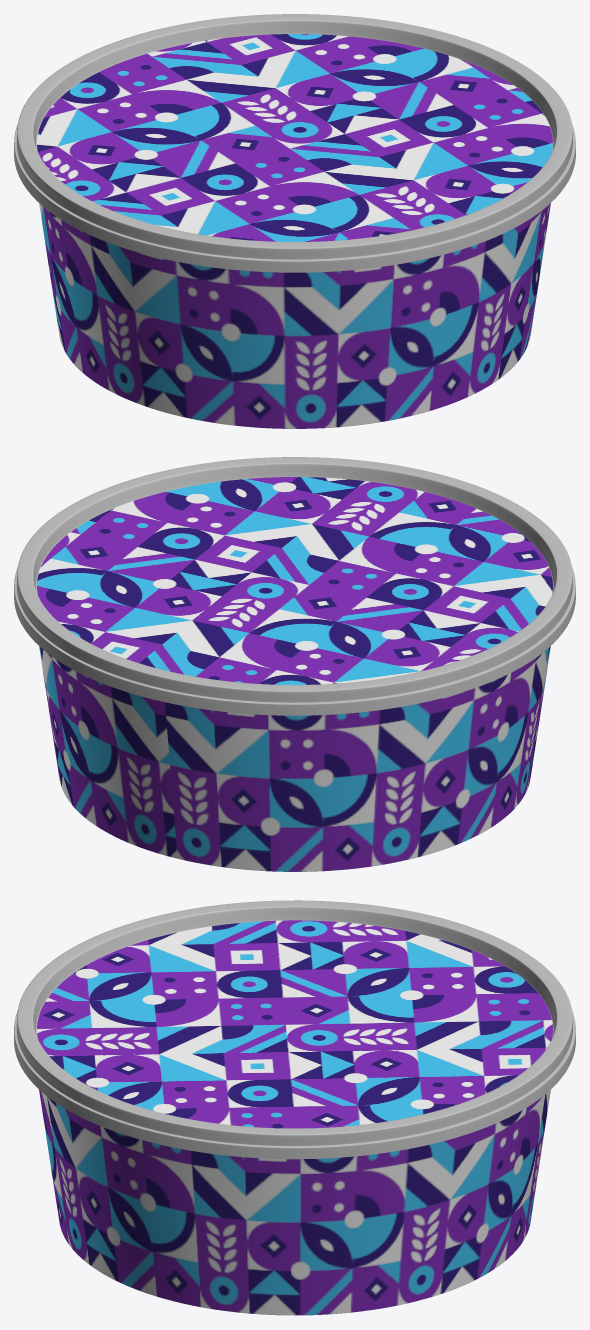
The picture shows the model from 3 angles, top to bottom: view 1: azimuth 30°, elevation 25°; view 2: azimuth 150°, elevation 25°; view 3: azimuth 270°, elevation 25°; orthographic projection.
Visible parts, largest first — view 1: Lid.009, Bottom.009, Lid.008; view 2: Lid.009, Bottom.009, Lid.008; view 3: Lid.009, Bottom.009, Lid.008.
Part boxes in pixels (left/top/right/bottom): Lid.009: left=37, top=34, right=552, bottom=241; Bottom.009: left=39, top=203, right=550, bottom=428; Lid.008: left=14, top=14, right=575, bottom=272; Lid.009: left=37, top=477, right=552, bottom=684; Bottom.009: left=39, top=646, right=550, bottom=871; Lid.008: left=14, top=457, right=575, bottom=715; Lid.009: left=37, top=920, right=552, bottom=1128; Bottom.009: left=39, top=1090, right=550, bottom=1315; Lid.008: left=14, top=900, right=575, bottom=1159.
Size of the model in its own units: 0.1502 by 0.0588 by 0.1502.
Materials: 5 (2 with a texture image).
